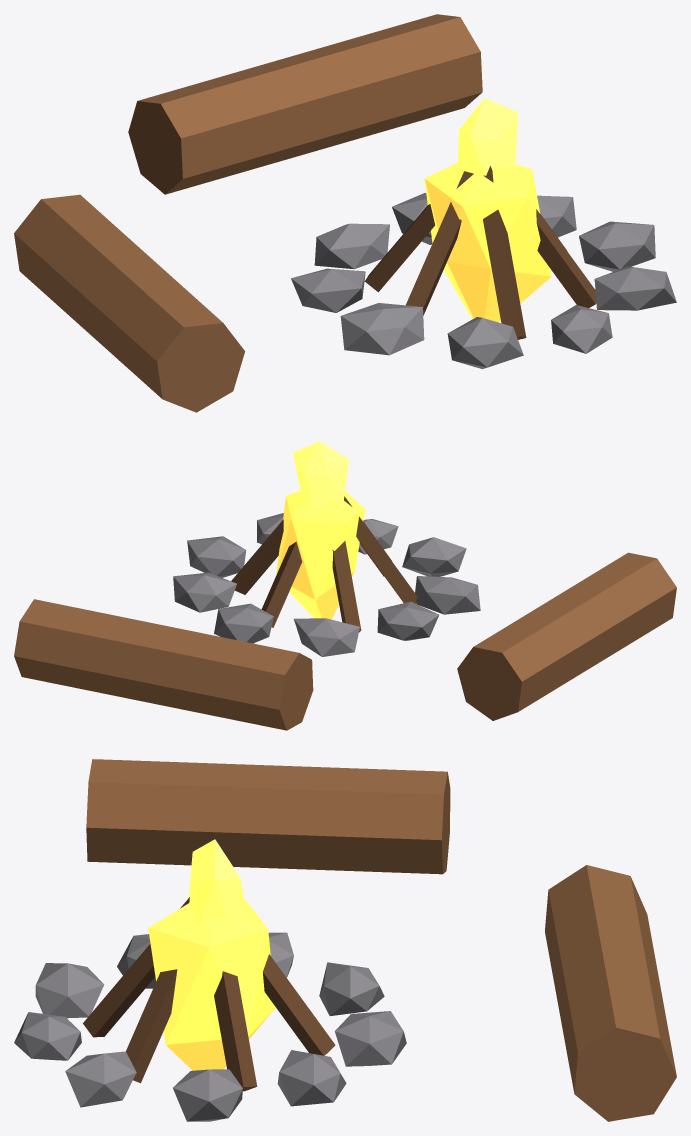
File: lagereld.glb
3 renders of one model, top to bottom at view 1: azimuth 30°, elevation 25°; view 2: azimuth 150°, elevation 25°; view 3: azimuth 270°, elevation 25°, orthographic. The views are drawn at different scales.
Parts seen in each view (by area): view 1: lagereld; view 2: lagereld; view 3: lagereld.
Part boxes in pixels (x1,y1,x2,y2): lagereld: (14, 14, 676, 412); lagereld: (14, 441, 676, 730); lagereld: (14, 759, 676, 1121).
Bounding box in the file's own units: 2.28 × 0.9305 × 2.24.
